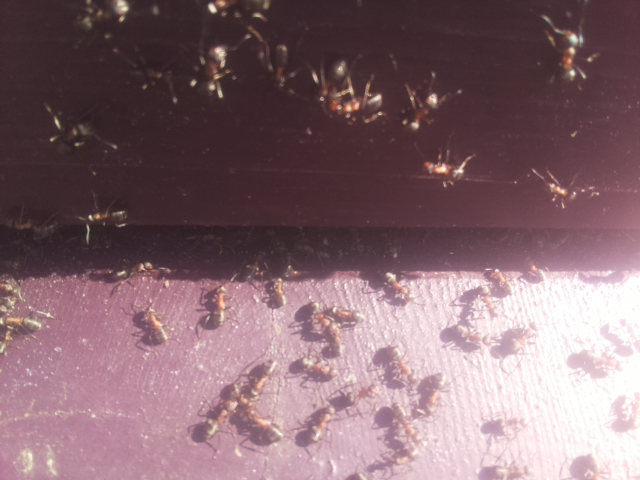ant: (535, 15, 592, 89), (32, 96, 99, 155), (183, 393, 243, 452), (392, 79, 451, 137), (193, 36, 240, 103), (323, 85, 390, 128), (305, 56, 358, 110), (527, 167, 584, 210), (294, 402, 342, 453), (238, 402, 290, 448), (429, 147, 482, 192), (375, 341, 420, 387), (386, 401, 426, 446), (263, 38, 295, 94), (290, 353, 342, 387), (601, 392, 640, 436), (415, 370, 450, 418), (74, 205, 134, 233), (139, 303, 174, 349), (249, 354, 280, 402), (598, 321, 634, 356), (380, 268, 412, 307), (482, 267, 514, 298), (210, 283, 230, 330), (484, 462, 534, 480)
